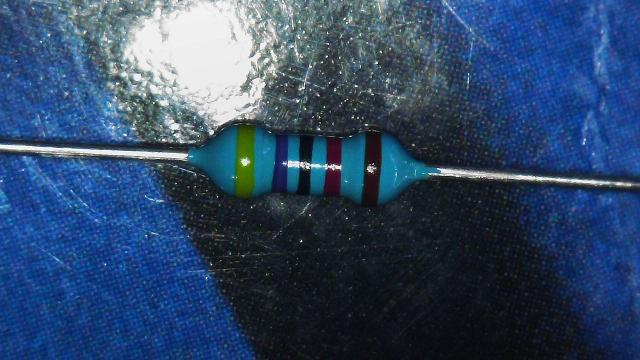black: (297, 135, 312, 194)
brown: (362, 130, 382, 206)
red: (324, 137, 342, 196)
resistor: (186, 96, 430, 223)
violet: (272, 134, 289, 192)
yellow: (234, 122, 256, 197)
